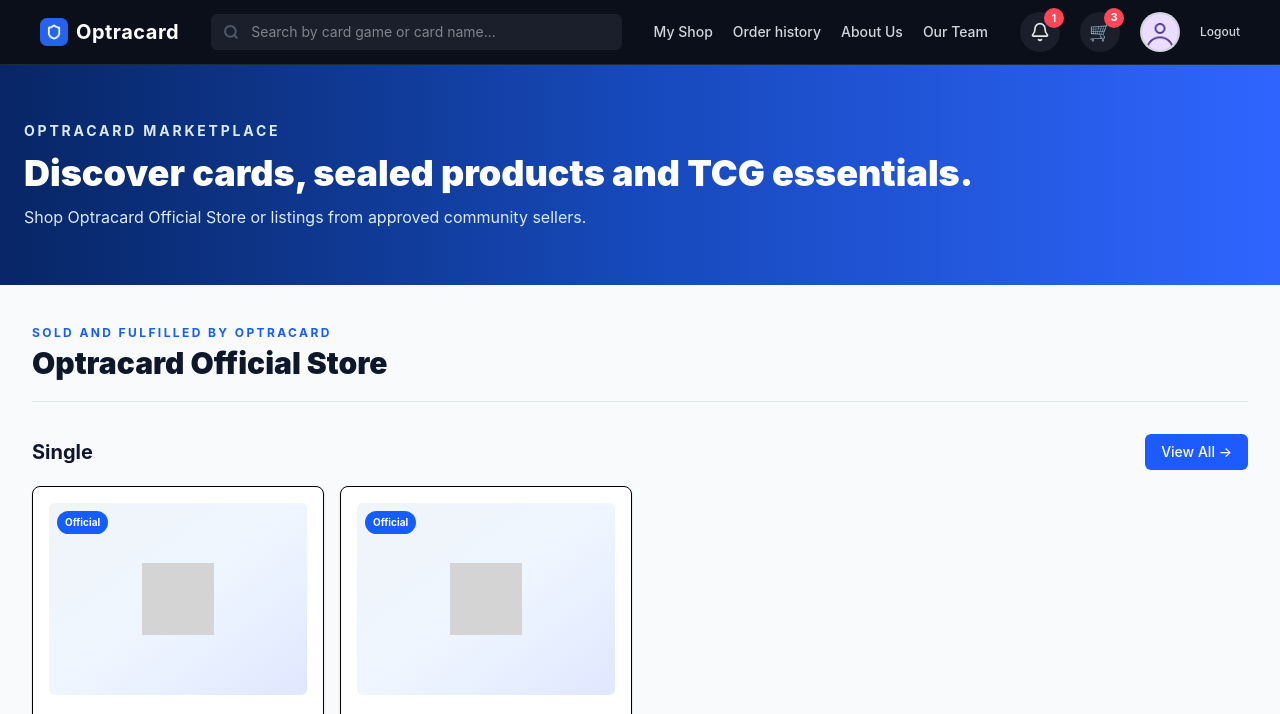
Order, visibility, and catalog safeguards › shows a buyer shipping notification and marks it read when opened
Click the button named "Order notifications": x=1040, y=32 [1020,12,1060,52]
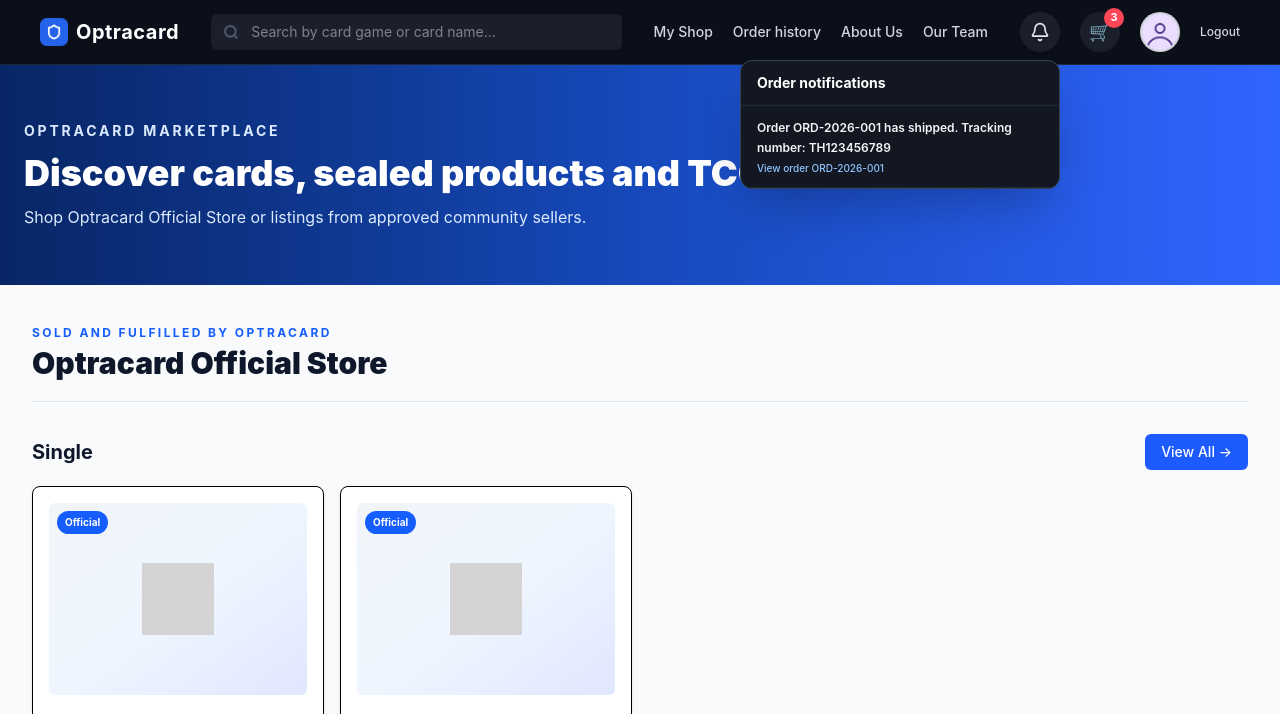
Expected: the button "View order ORD-2026-001" is shown, [741,106,1059,188]
